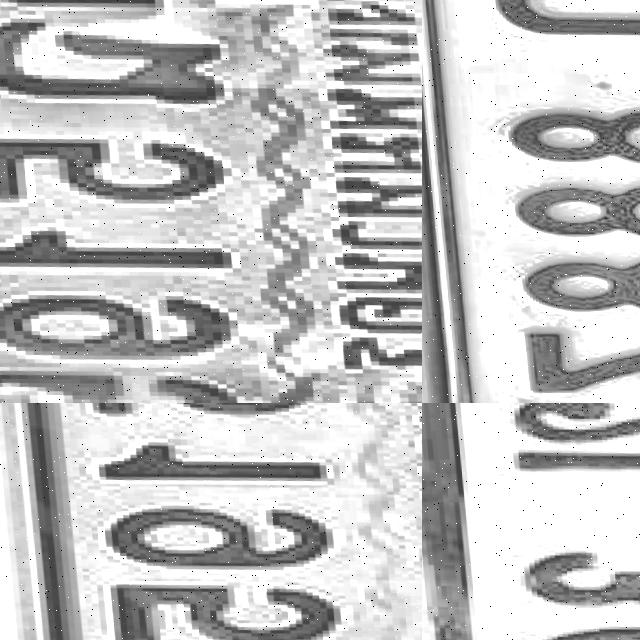license-plate: (0, 0, 422, 403), (0, 403, 422, 640), (422, 0, 640, 403), (422, 403, 640, 640)
